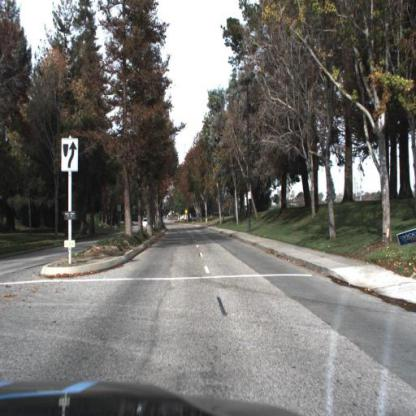car: (141, 218, 149, 230)
